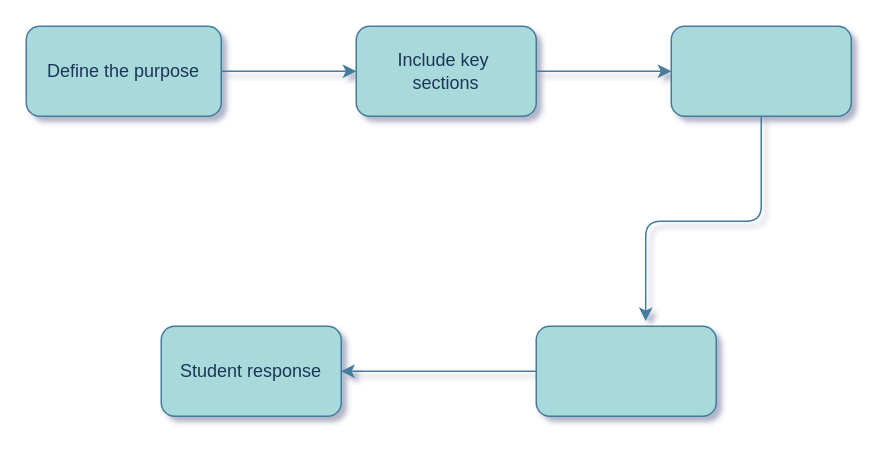
Image size: 887x452. Some labels were removed from this diagram. Each missing label, with the centre of its shape:
"Design effective questions" belongs at (x=760, y=70).
"Make it user-friendly" belongs at (x=625, y=370).
